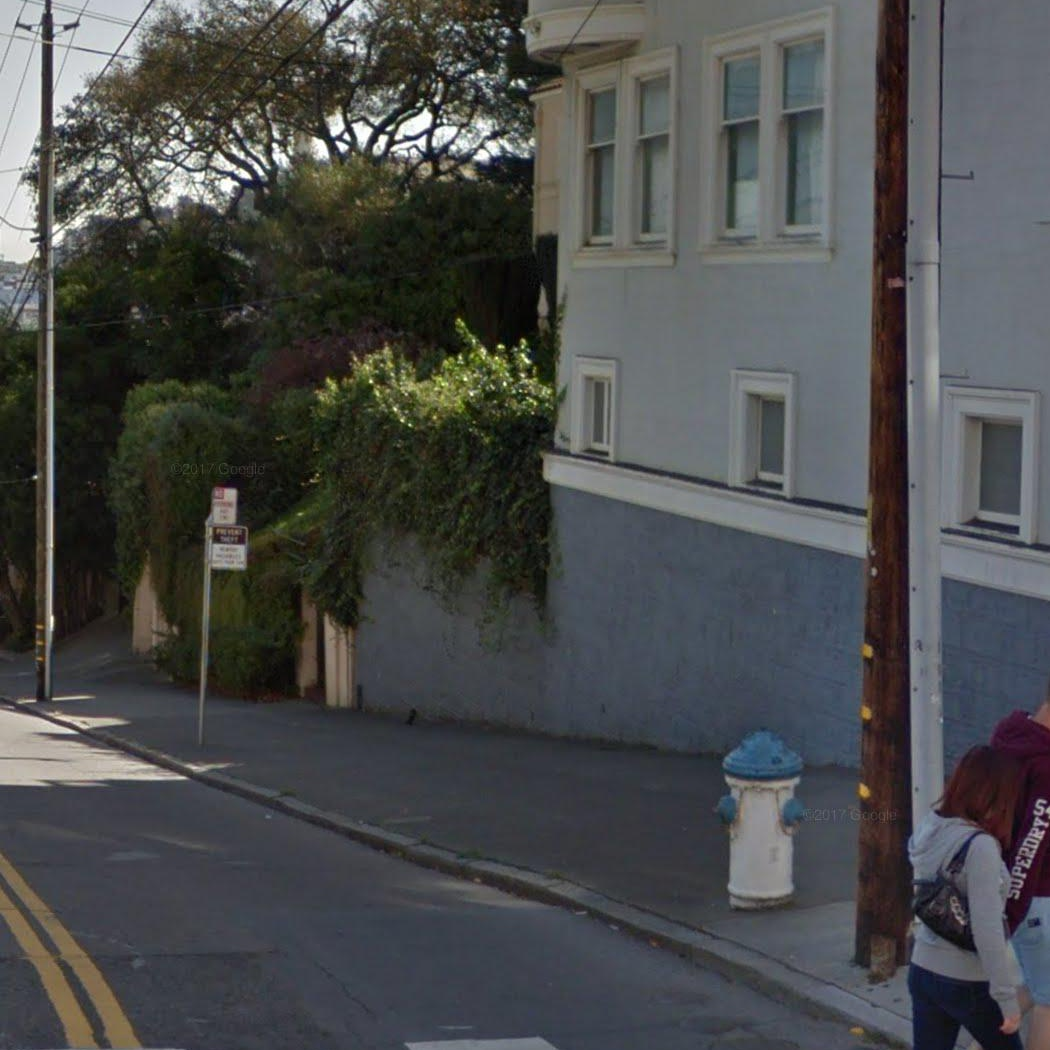No Parking Anytime: (211, 484, 239, 527)
